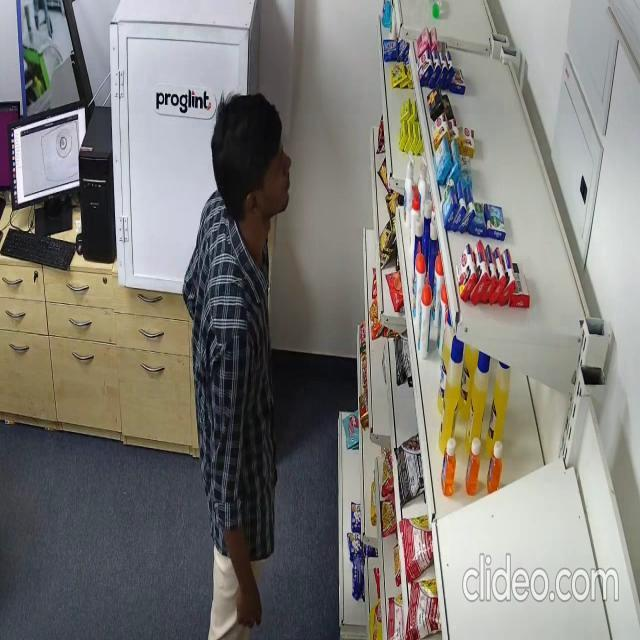Shoplifting: (179, 90, 295, 640)
